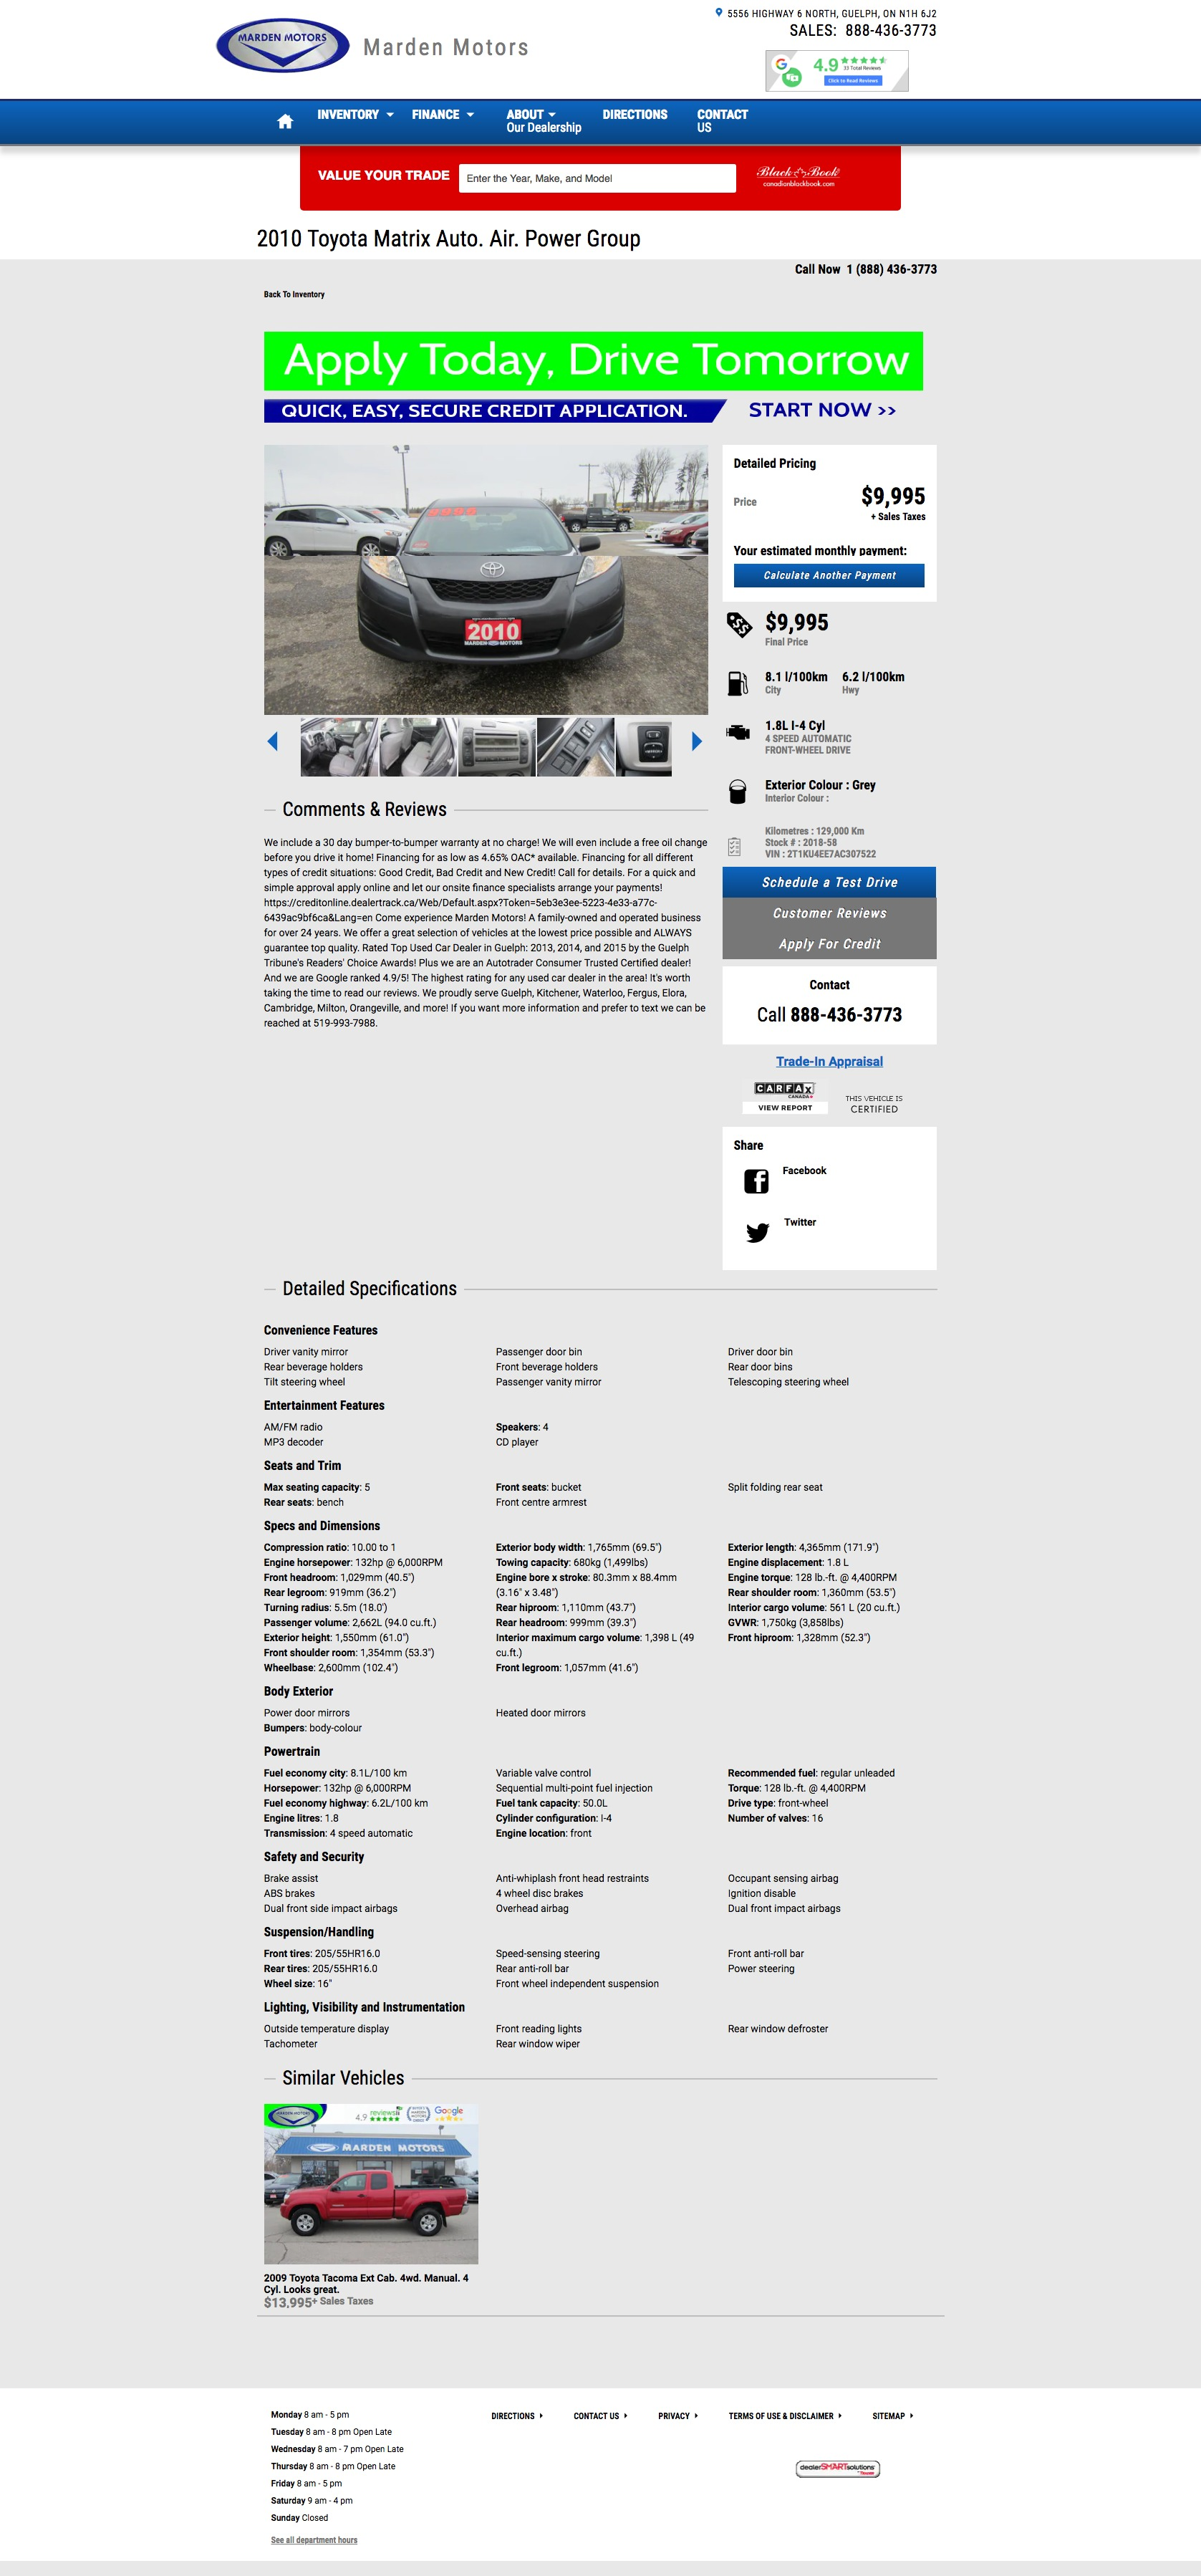car: (692, 731, 703, 754)
